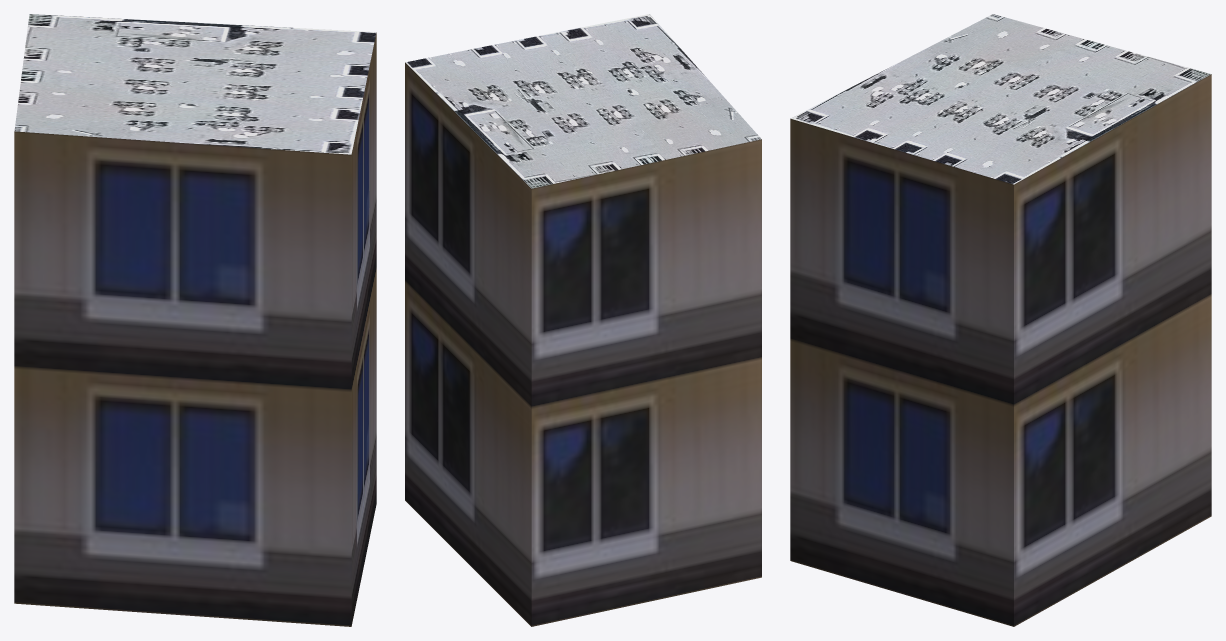
Rendered from ResTex__1895.fbx.
3 views of the same model, side by side, from view 1: azimuth 30°, elevation 25°; view 2: azimuth 150°, elevation 25°; view 3: azimuth 270°, elevation 25° (orthographic). The views are drawn at different scales.
Parts seen in each view (by area): view 1: CityEngineMaterial_5_m, CityEngineMaterial_8_m; view 2: CityEngineMaterial_5_m, CityEngineMaterial_8_m; view 3: CityEngineMaterial_5_m, CityEngineMaterial_8_m.
Part boxes in pixels (left/top/right/bottom): CityEngineMaterial_5_m: left=14, top=32, right=376, bottom=626; CityEngineMaterial_8_m: left=14, top=14, right=376, bottom=154; CityEngineMaterial_5_m: left=405, top=62, right=761, bottom=626; CityEngineMaterial_8_m: left=405, top=14, right=761, bottom=188; CityEngineMaterial_5_m: left=790, top=74, right=1211, bottom=626; CityEngineMaterial_8_m: left=791, top=14, right=1210, bottom=184.
Size of the model in its own units: 4.96 by 6 by 5.18.
2 materials, 2 textured.
